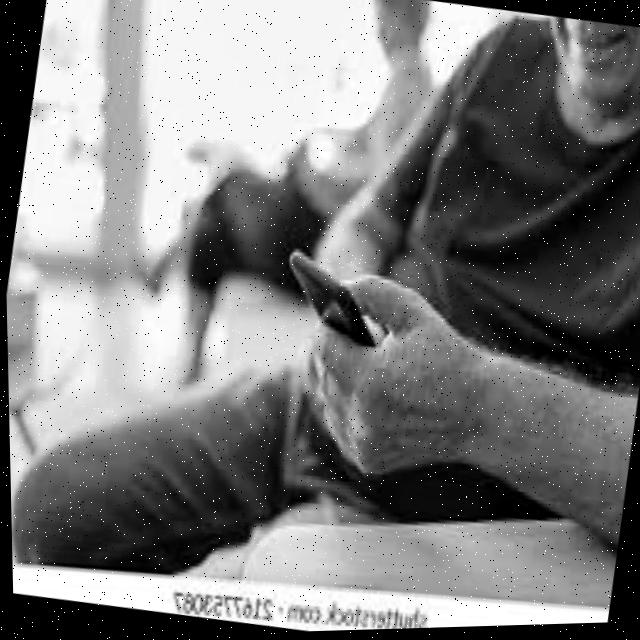phone: (275, 240, 392, 357)
